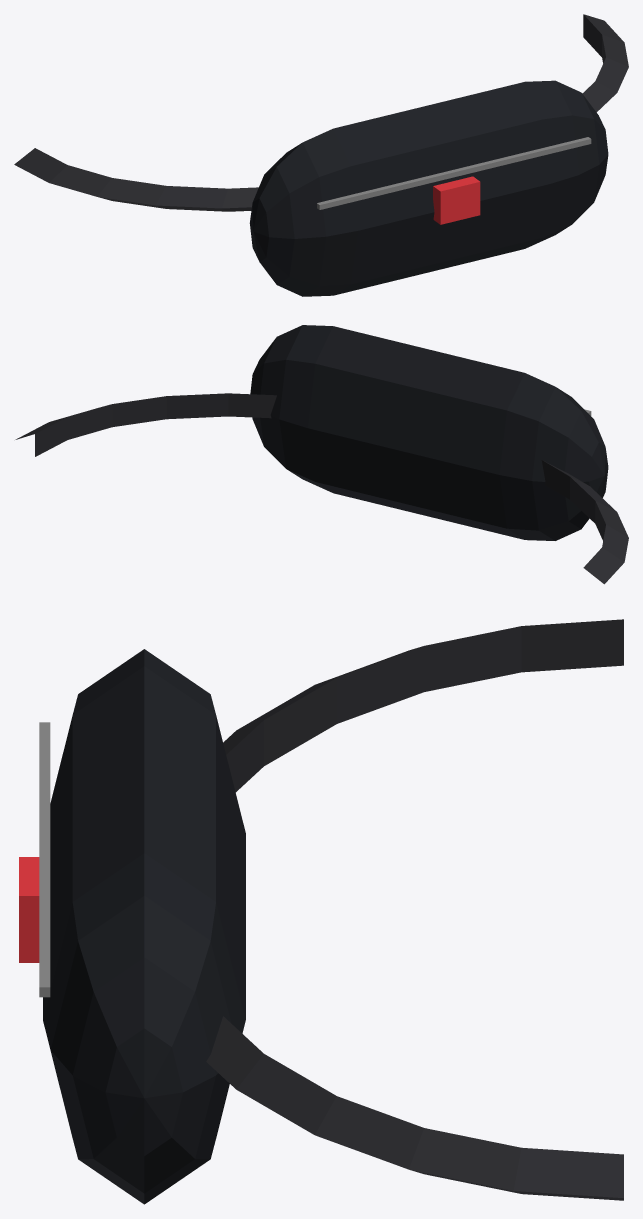
The model's file is bag-bumbag.glb.
The picture shows the model from 3 angles, top to bottom: view 1: azimuth 30°, elevation 25°; view 2: azimuth 150°, elevation 25°; view 3: azimuth 270°, elevation 25°; orthographic projection. The views are drawn at different scales.
Parts seen in each view (by area): view 1: bag_bumbag; view 2: bag_bumbag; view 3: bag_bumbag.
Boxes of the visible parts, box(x1,y1,x2,y2) form: bag_bumbag: box(14, 14, 628, 296); bag_bumbag: box(15, 325, 628, 584); bag_bumbag: box(19, 619, 623, 1204).
Size of the model in its own units: 0.3696 by 0.1 by 0.164.
